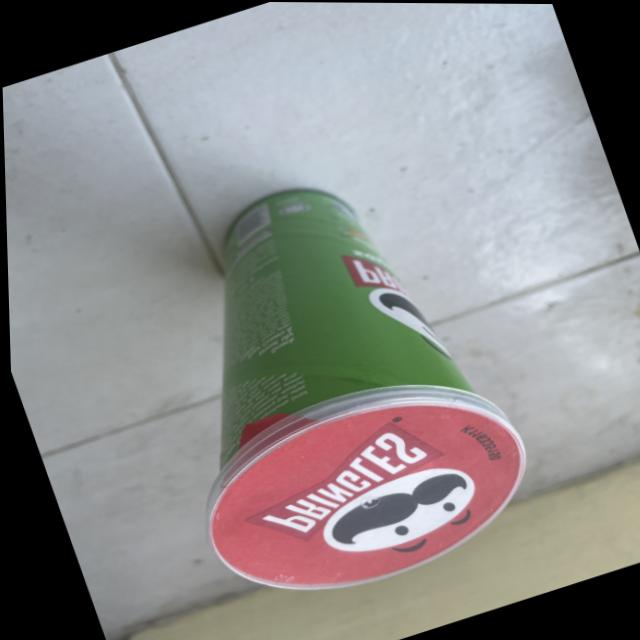a pringles: (95, 140, 562, 639)
